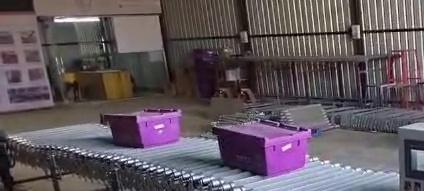box: (214, 121, 311, 175), (101, 109, 180, 147)
